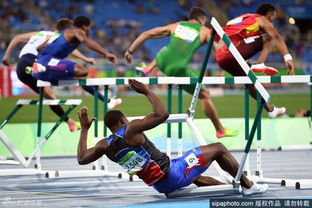fall: (65, 78, 277, 196)
